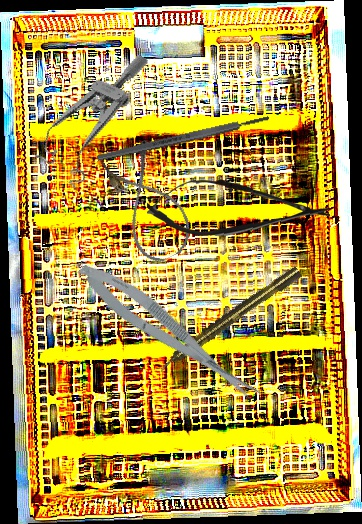Cannula: (97, 137, 200, 269)
Handpiece: (154, 264, 304, 376)
Micro Scissor: (71, 252, 266, 415), (146, 175, 331, 242)
Scalpel Handle: (96, 113, 270, 163)
Speculum: (28, 32, 150, 196)
